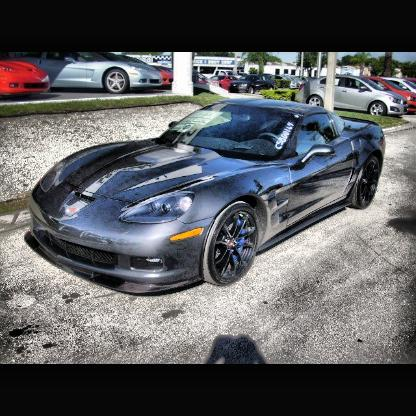Chevrolet Corvette ZR1 2012: (32, 104, 386, 295)
